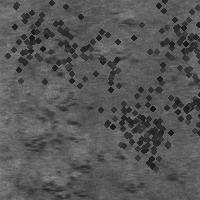rolled-in_scale: (19, 27, 90, 200), (32, 0, 146, 107), (0, 0, 101, 99), (95, 86, 187, 178), (93, 66, 183, 156), (122, 0, 200, 101), (94, 145, 160, 195), (161, 67, 200, 143), (90, 39, 143, 66)
